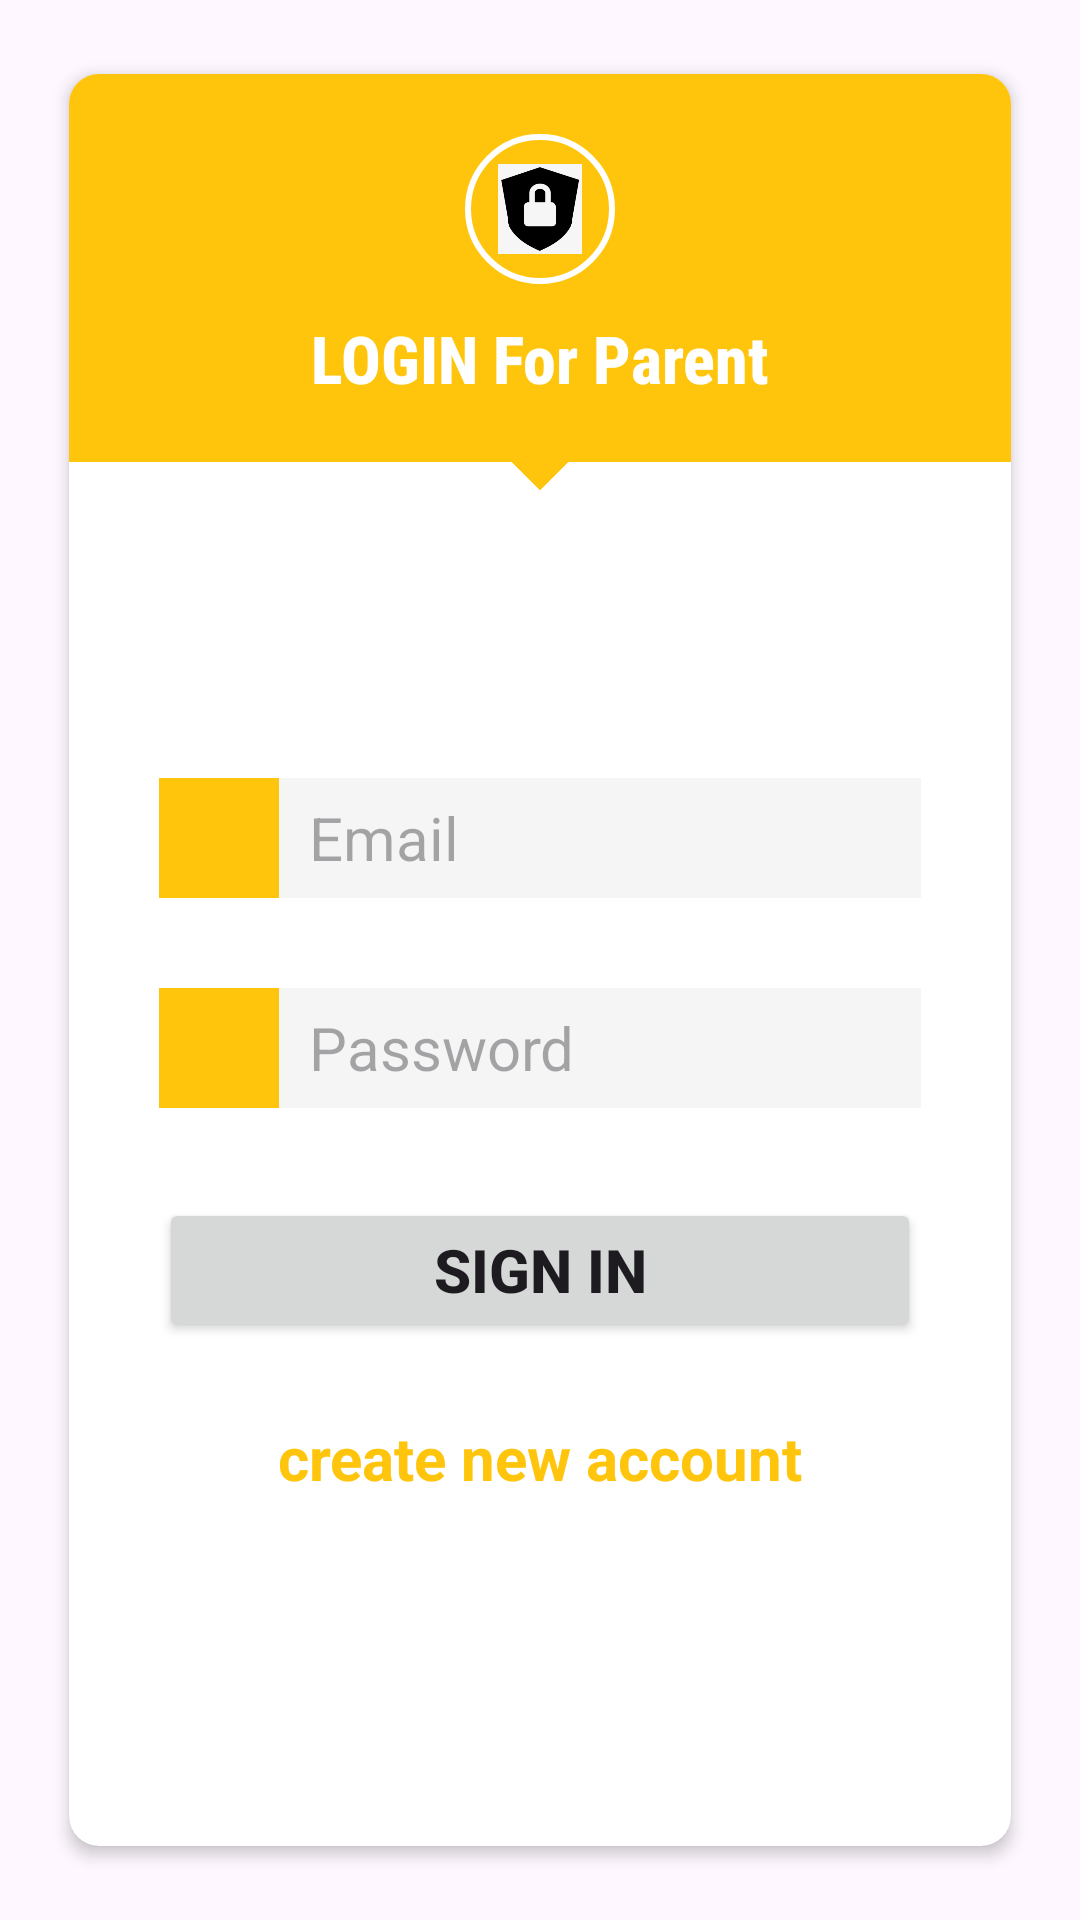

Icon click points for this 1080×1920 phone screenshot, format [x,y]:
lock: [540,209]
